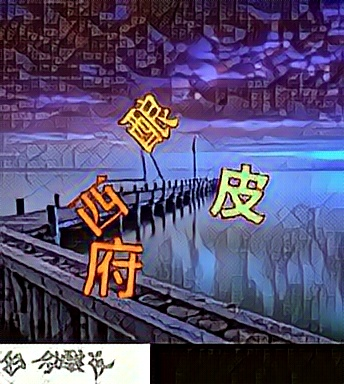B8AE: (83, 237, 146, 304)
C4F0: (117, 89, 180, 156)
C6A4: (207, 159, 270, 226)
CEF7: (68, 171, 131, 238)
